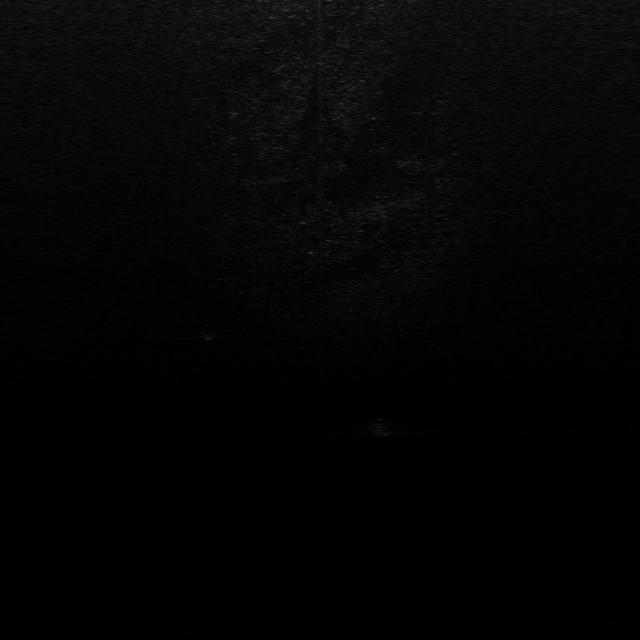ball: (366, 416, 398, 436)
circle cage: (197, 321, 223, 341)
